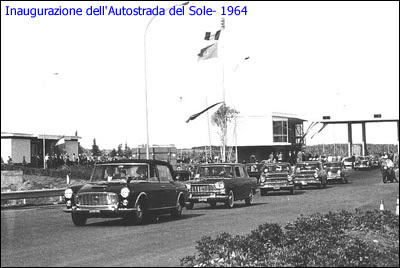car: (66, 155, 181, 223), (179, 161, 262, 209), (255, 160, 298, 195), (294, 155, 325, 188), (323, 160, 349, 183)
